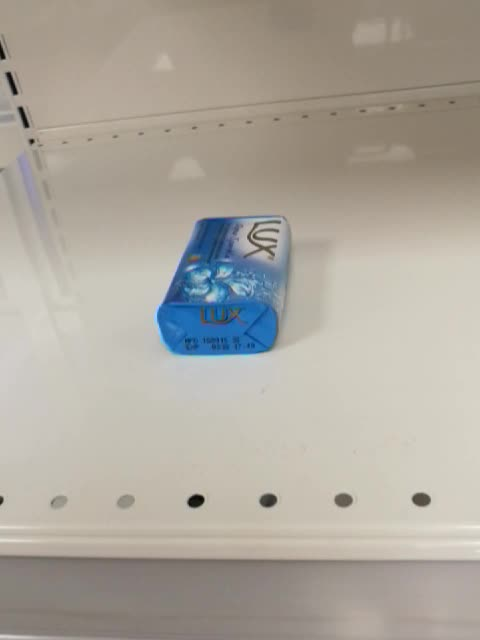soap: (153, 213, 295, 359)
